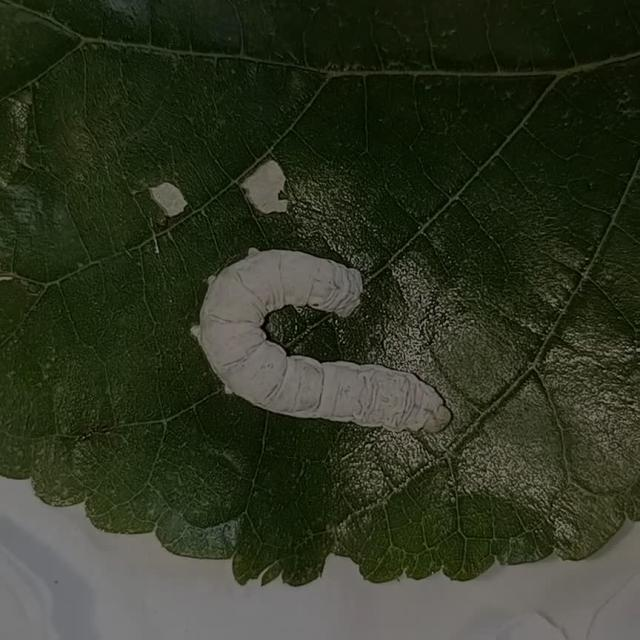Healthy: (188, 238, 460, 442)
